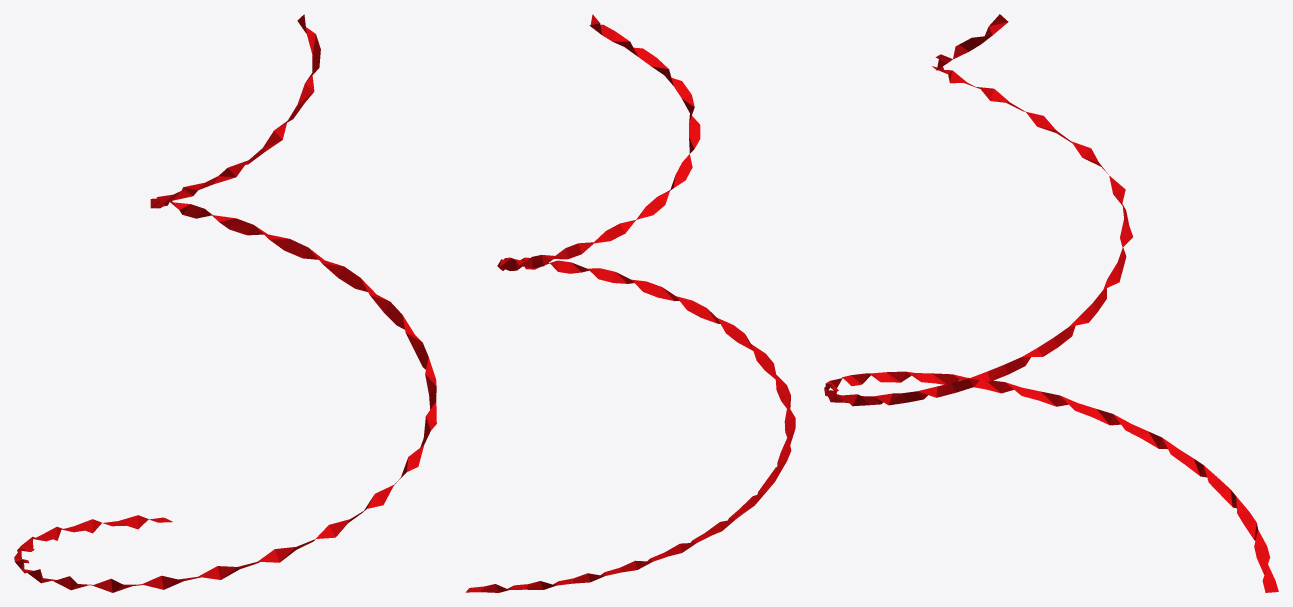
File: Prefab_Xmas_Tree_Ribbon_B.glb
3 views of the same model, side by side, from view 1: azimuth 30°, elevation 25°; view 2: azimuth 150°, elevation 25°; view 3: azimuth 270°, elevation 25° (orthographic). The views are drawn at different scales.
Visible parts, largest first — view 1: Ribbon_B; view 2: Ribbon_B; view 3: Ribbon_B.
Part boxes in pixels (x1,y1,x2,y2): Ribbon_B: (14, 14, 436, 592); Ribbon_B: (465, 14, 795, 592); Ribbon_B: (824, 14, 1278, 592).
Size of the model in its own units: 1.07 by 1.83 by 1.31.
